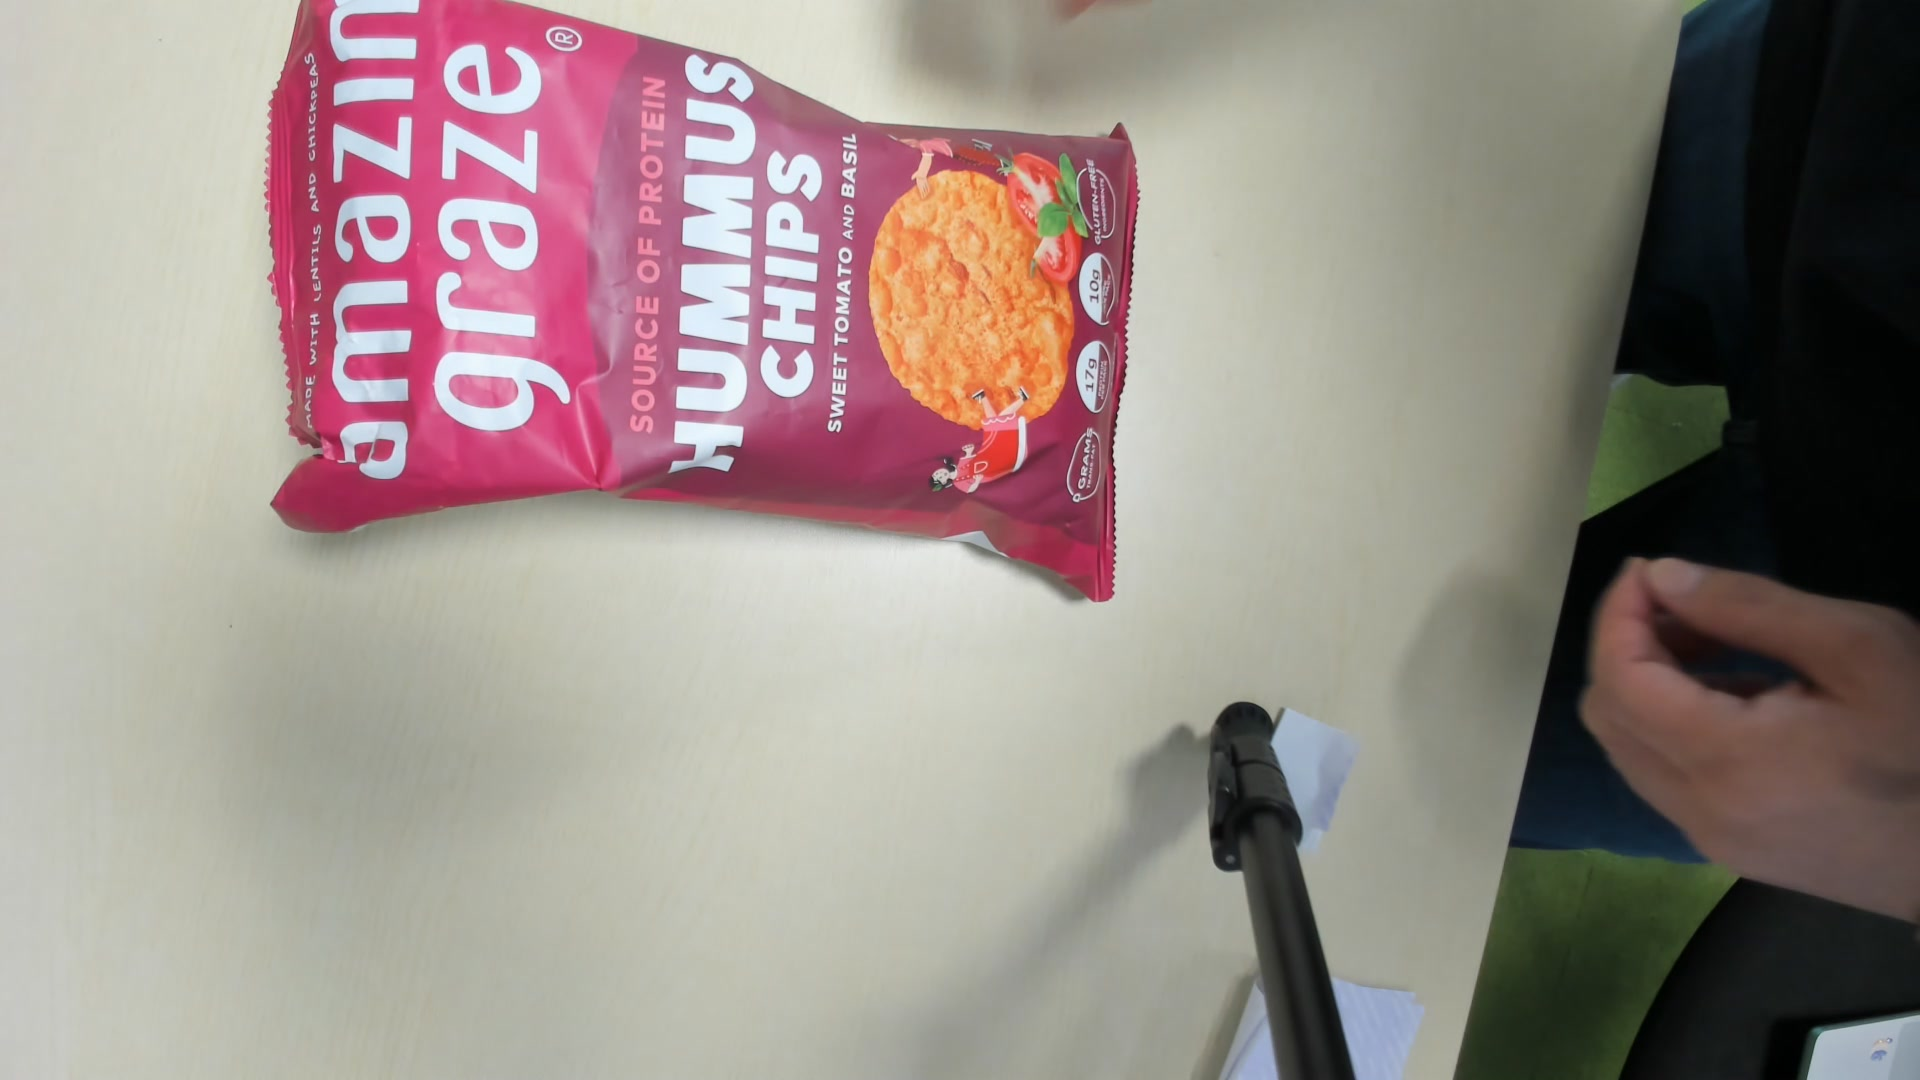PotatoChipsKeropok_100-199g_NonHalal_NonHealthy: (269, 1, 1149, 609)
